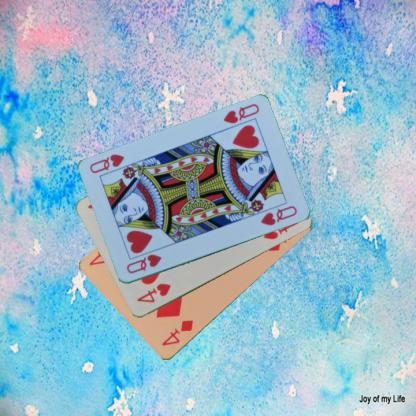4d: (159, 318, 195, 348)
4h: (134, 281, 172, 304)
Qh: (220, 101, 260, 125), (124, 252, 163, 275)
